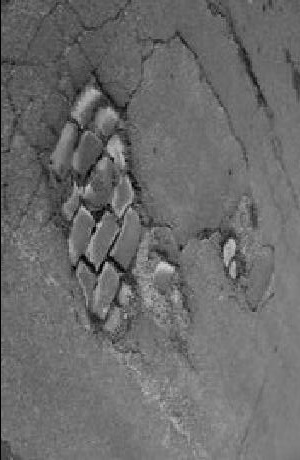pothole: (41, 69, 147, 344), (137, 242, 194, 338), (219, 233, 246, 283)
